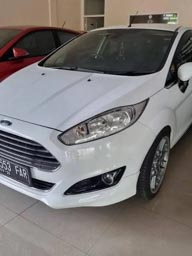plat: (1, 156, 30, 187)
